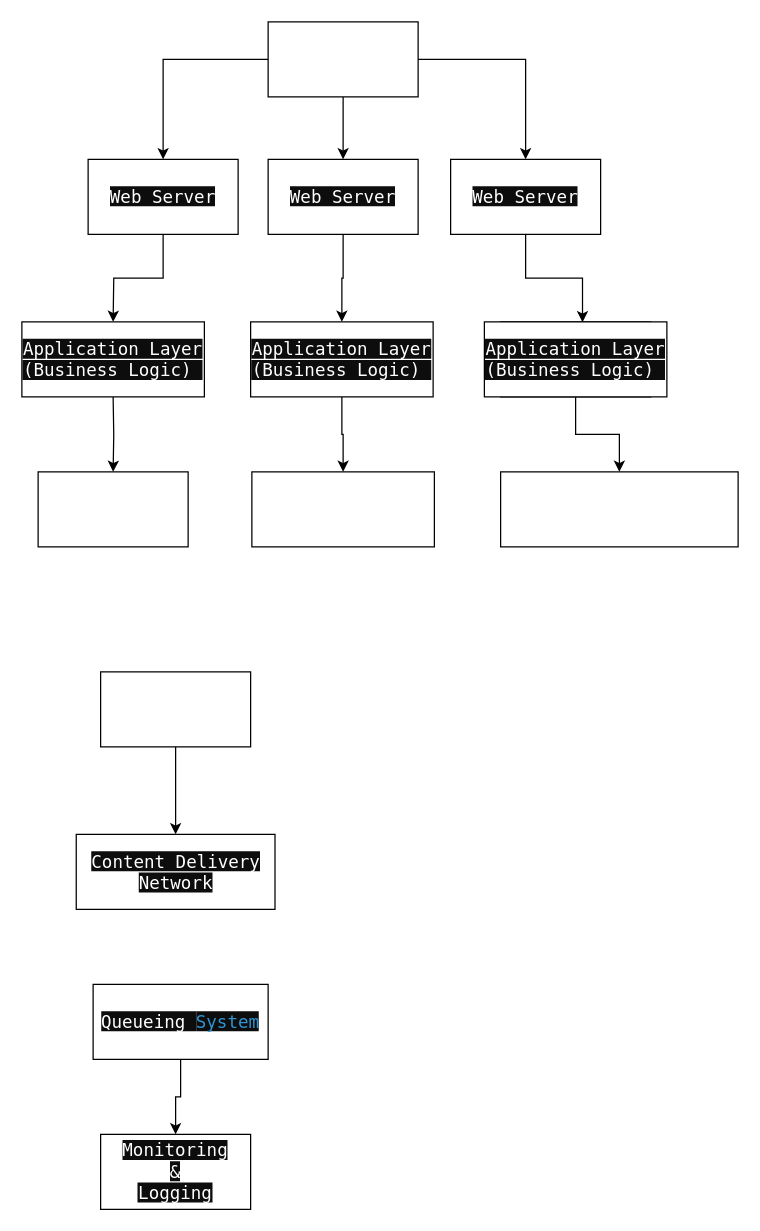
The diagram is 760 pixels wide and 1231 high, and some of its shapes have lost their labels. The shapes that lost their labels are listed below. From the top down, each one's box as (x1, y1, x2, y2) in pixels, then its label:
(267, 21, 418, 97): Load Balancer
(37, 471, 188, 547): Database
(251, 471, 434, 547): Ticket Inventory
(499, 471, 738, 547): User Authentication
(99, 671, 251, 747): Caching Layer
